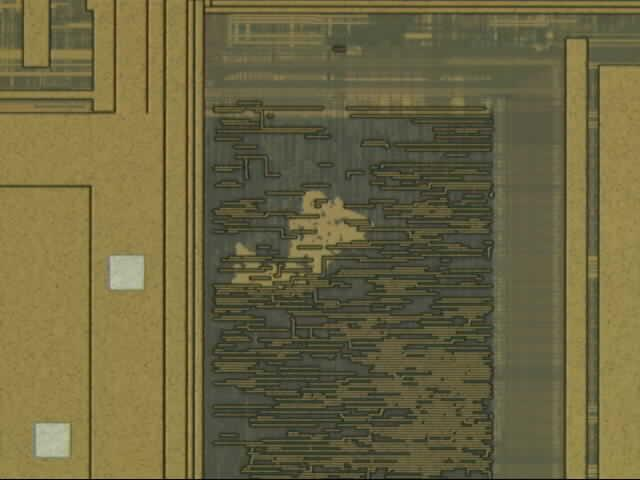BLOCK ETCH: (227, 188, 376, 292)
